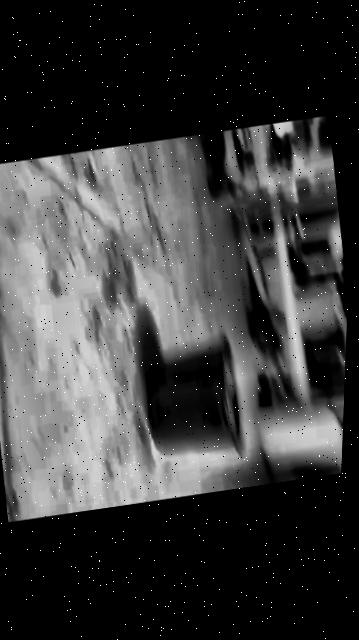pot: (136, 335, 248, 467)
